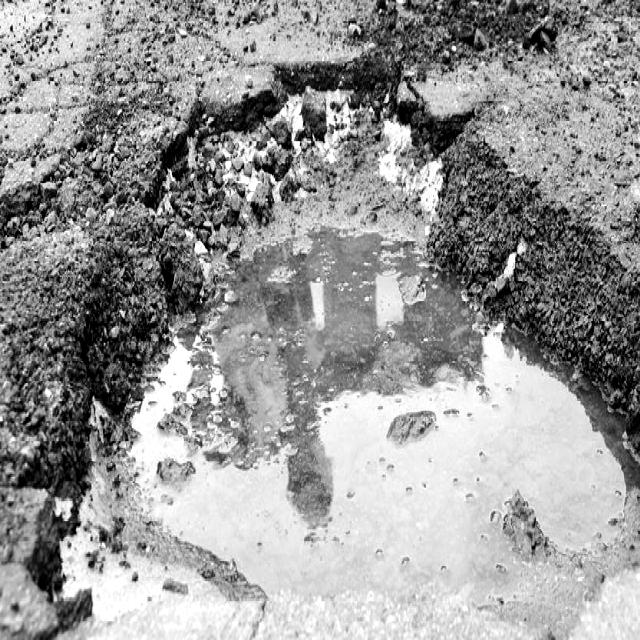pathole: (0, 0, 640, 639)
